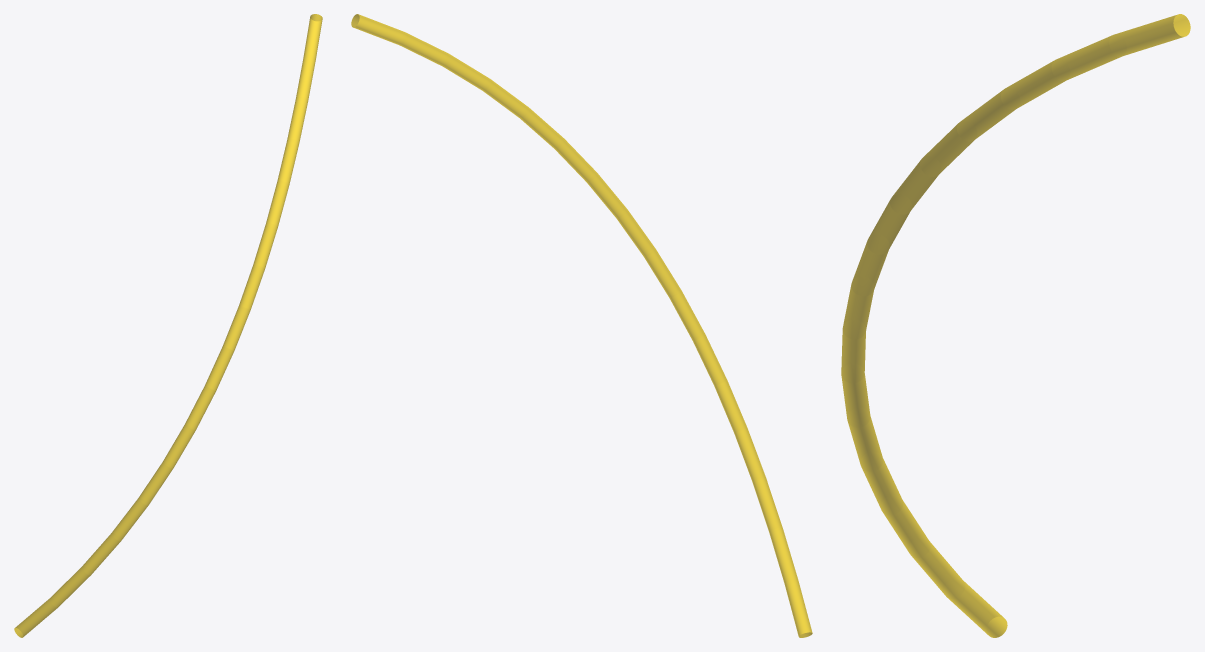
File: Event_419990632_track_92.fbx
3 renders of one model, left to right at view 1: azimuth 30°, elevation 25°; view 2: azimuth 150°, elevation 25°; view 3: azimuth 270°, elevation 25°, orthographic. The views are drawn at different scales.
Visible parts, largest first — view 1: Model; view 2: Model; view 3: Model.
Boxes of the visible parts, bbox=[...] form: Model: bbox=[14, 14, 322, 637]; Model: bbox=[351, 14, 812, 637]; Model: bbox=[841, 14, 1190, 637].
Size of the model in its own units: 1.3 by 1.75 by 0.5944.
